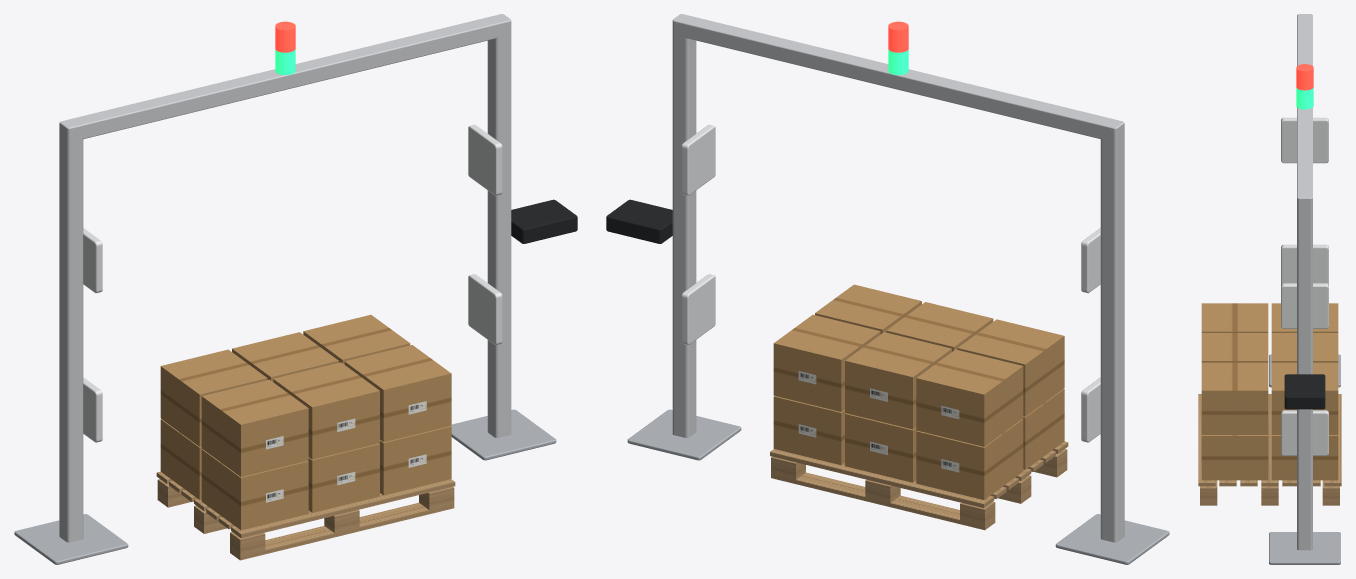
The model's file is bramkaUHF.glb.
3 renders of one model, left to right at view 1: azimuth 30°, elevation 25°; view 2: azimuth 150°, elevation 25°; view 3: azimuth 270°, elevation 25°, orthographic. The views are drawn at different scales.
Parts seen in each view (by area): view 1: Słup bramki (×2), Belka górna, Karton 10, Paleta EUR, Karton 11, Karton 12, Antena panelowa UHF (polaryzacja kołowa) (×4), Karton 4, Bramka UHF, Karton 7, Karton 5, Karton 6 (+5 smaller); view 2: Słup bramki (×2), Belka górna, Karton 7, Paleta EUR, Karton 9, Karton 8, Antena panelowa UHF (polaryzacja kołowa) (×4), Karton 1, Bramka UHF, Karton 10, Karton 2, Karton 3 (+5 smaller); view 3: Antena panelowa UHF (polaryzacja kołowa) (×4), Słup bramki, Karton 12, Karton 6, Paleta EUR, Belka górna, Bramka UHF, Karton 9, Karton 10, Karton 11, Karton 3, Karton 8 (+3 smaller).
Boxes of the visible parts, box(x1,y1,x2,y2) form: Słup bramki (×2): box(59, 29, 511, 542); Belka górna: box(59, 14, 511, 141); Karton 10: box(201, 379, 308, 476); Paleta EUR: box(156, 471, 455, 560); Karton 11: box(273, 362, 379, 459); Karton 12: box(344, 345, 451, 441); Antena panelowa UHF (polaryzacja kołowa) (×4): box(83, 124, 502, 442); Karton 4: box(201, 449, 308, 530); Bramka UHF: box(14, 409, 556, 564); Karton 7: box(160, 349, 267, 446); Karton 5: box(308, 443, 379, 512); Karton 6: box(379, 426, 451, 495); Słup bramki (×2): box(672, 29, 1124, 542); Belka górna: box(672, 14, 1124, 141); Karton 7: box(916, 349, 1023, 446); Paleta EUR: box(770, 441, 1068, 530); Karton 9: box(773, 314, 880, 411); Karton 8: box(845, 332, 951, 429); Antena panelowa UHF (polaryzacja kołowa) (×4): box(681, 124, 1100, 442); Karton 1: box(916, 419, 1023, 499); Bramka UHF: box(627, 409, 1169, 564); Karton 10: box(957, 319, 1064, 416); Karton 2: box(845, 413, 916, 482); Karton 3: box(773, 396, 845, 465); Antena panelowa UHF (polaryzacja kołowa) (×4): box(1281, 117, 1328, 455); Słup bramki: box(1297, 205, 1312, 550); Karton 12: box(1201, 362, 1268, 434); Karton 6: box(1201, 435, 1268, 480); Paleta EUR: box(1198, 394, 1341, 505); Belka górna: box(1297, 14, 1312, 209); Bramka UHF: box(1269, 354, 1340, 564); Karton 9: box(1271, 362, 1338, 434); Karton 10: box(1201, 303, 1268, 332); Karton 11: box(1201, 333, 1268, 362); Karton 3: box(1271, 435, 1338, 480); Karton 8: box(1271, 333, 1338, 362).
Size of the model in its own units: 2.98 by 2.48 by 0.82.
Materials: 9 (3 with a texture image).
